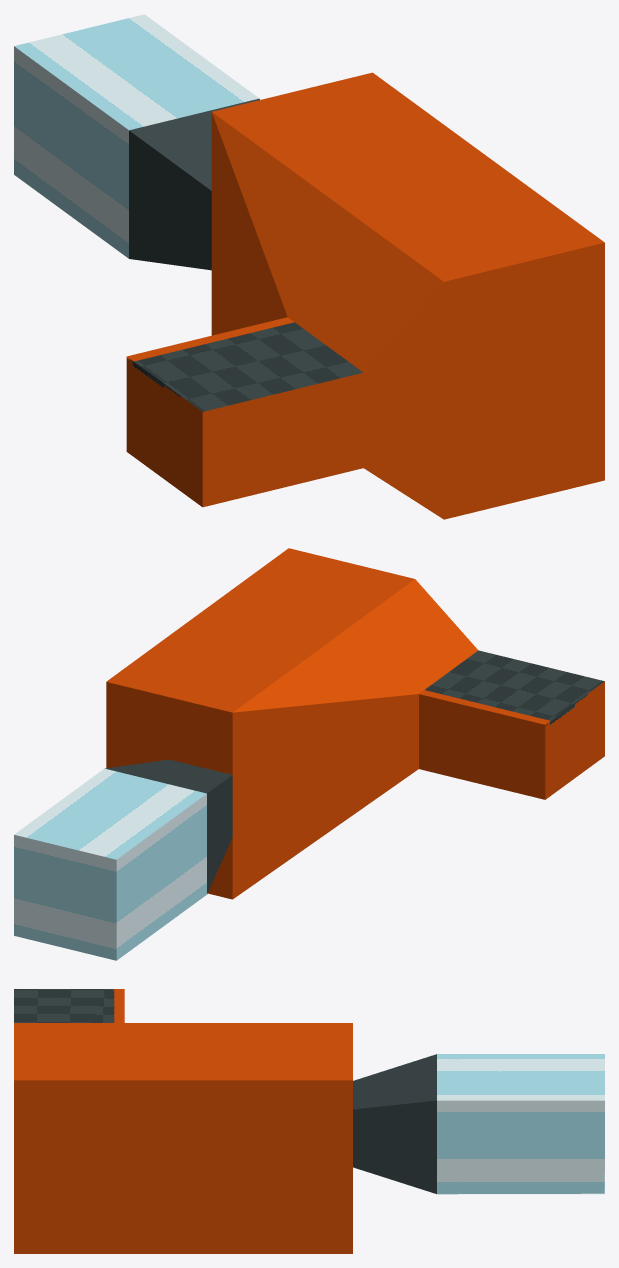
The model's file is drill.fbx.
3 renders of one model, top to bottom at view 1: azimuth 30°, elevation 25°; view 2: azimuth 150°, elevation 25°; view 3: azimuth 270°, elevation 25°, orthographic. The views are drawn at different scales.
Visible parts, largest first — view 1: Cube; view 2: Cube; view 3: Cube.
Boxes of the visible parts, x1,y1,x2,y2 form: Cube: [14, 14, 604, 519]; Cube: [14, 548, 604, 960]; Cube: [14, 989, 604, 1253].
Size of the model in its own units: 95.07 by 53.7 by 166.
